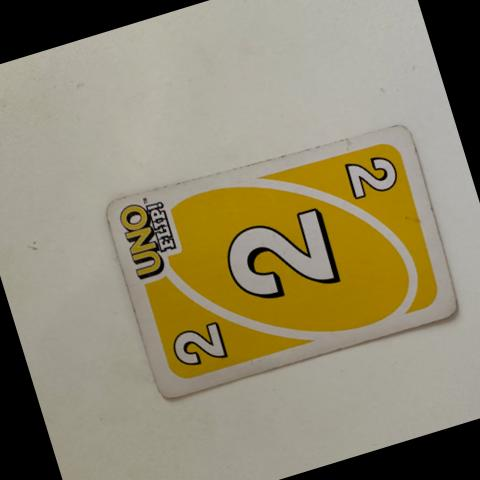lyellow-2: (146, 295, 251, 391)
